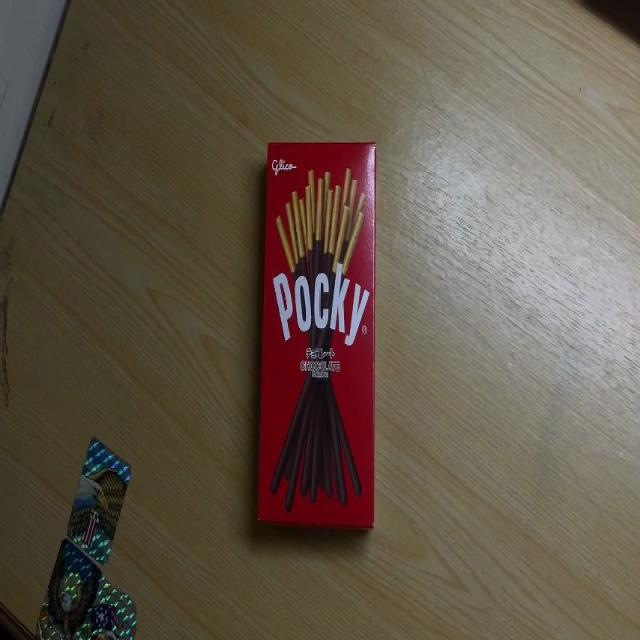Pocky: (257, 141, 376, 529)
